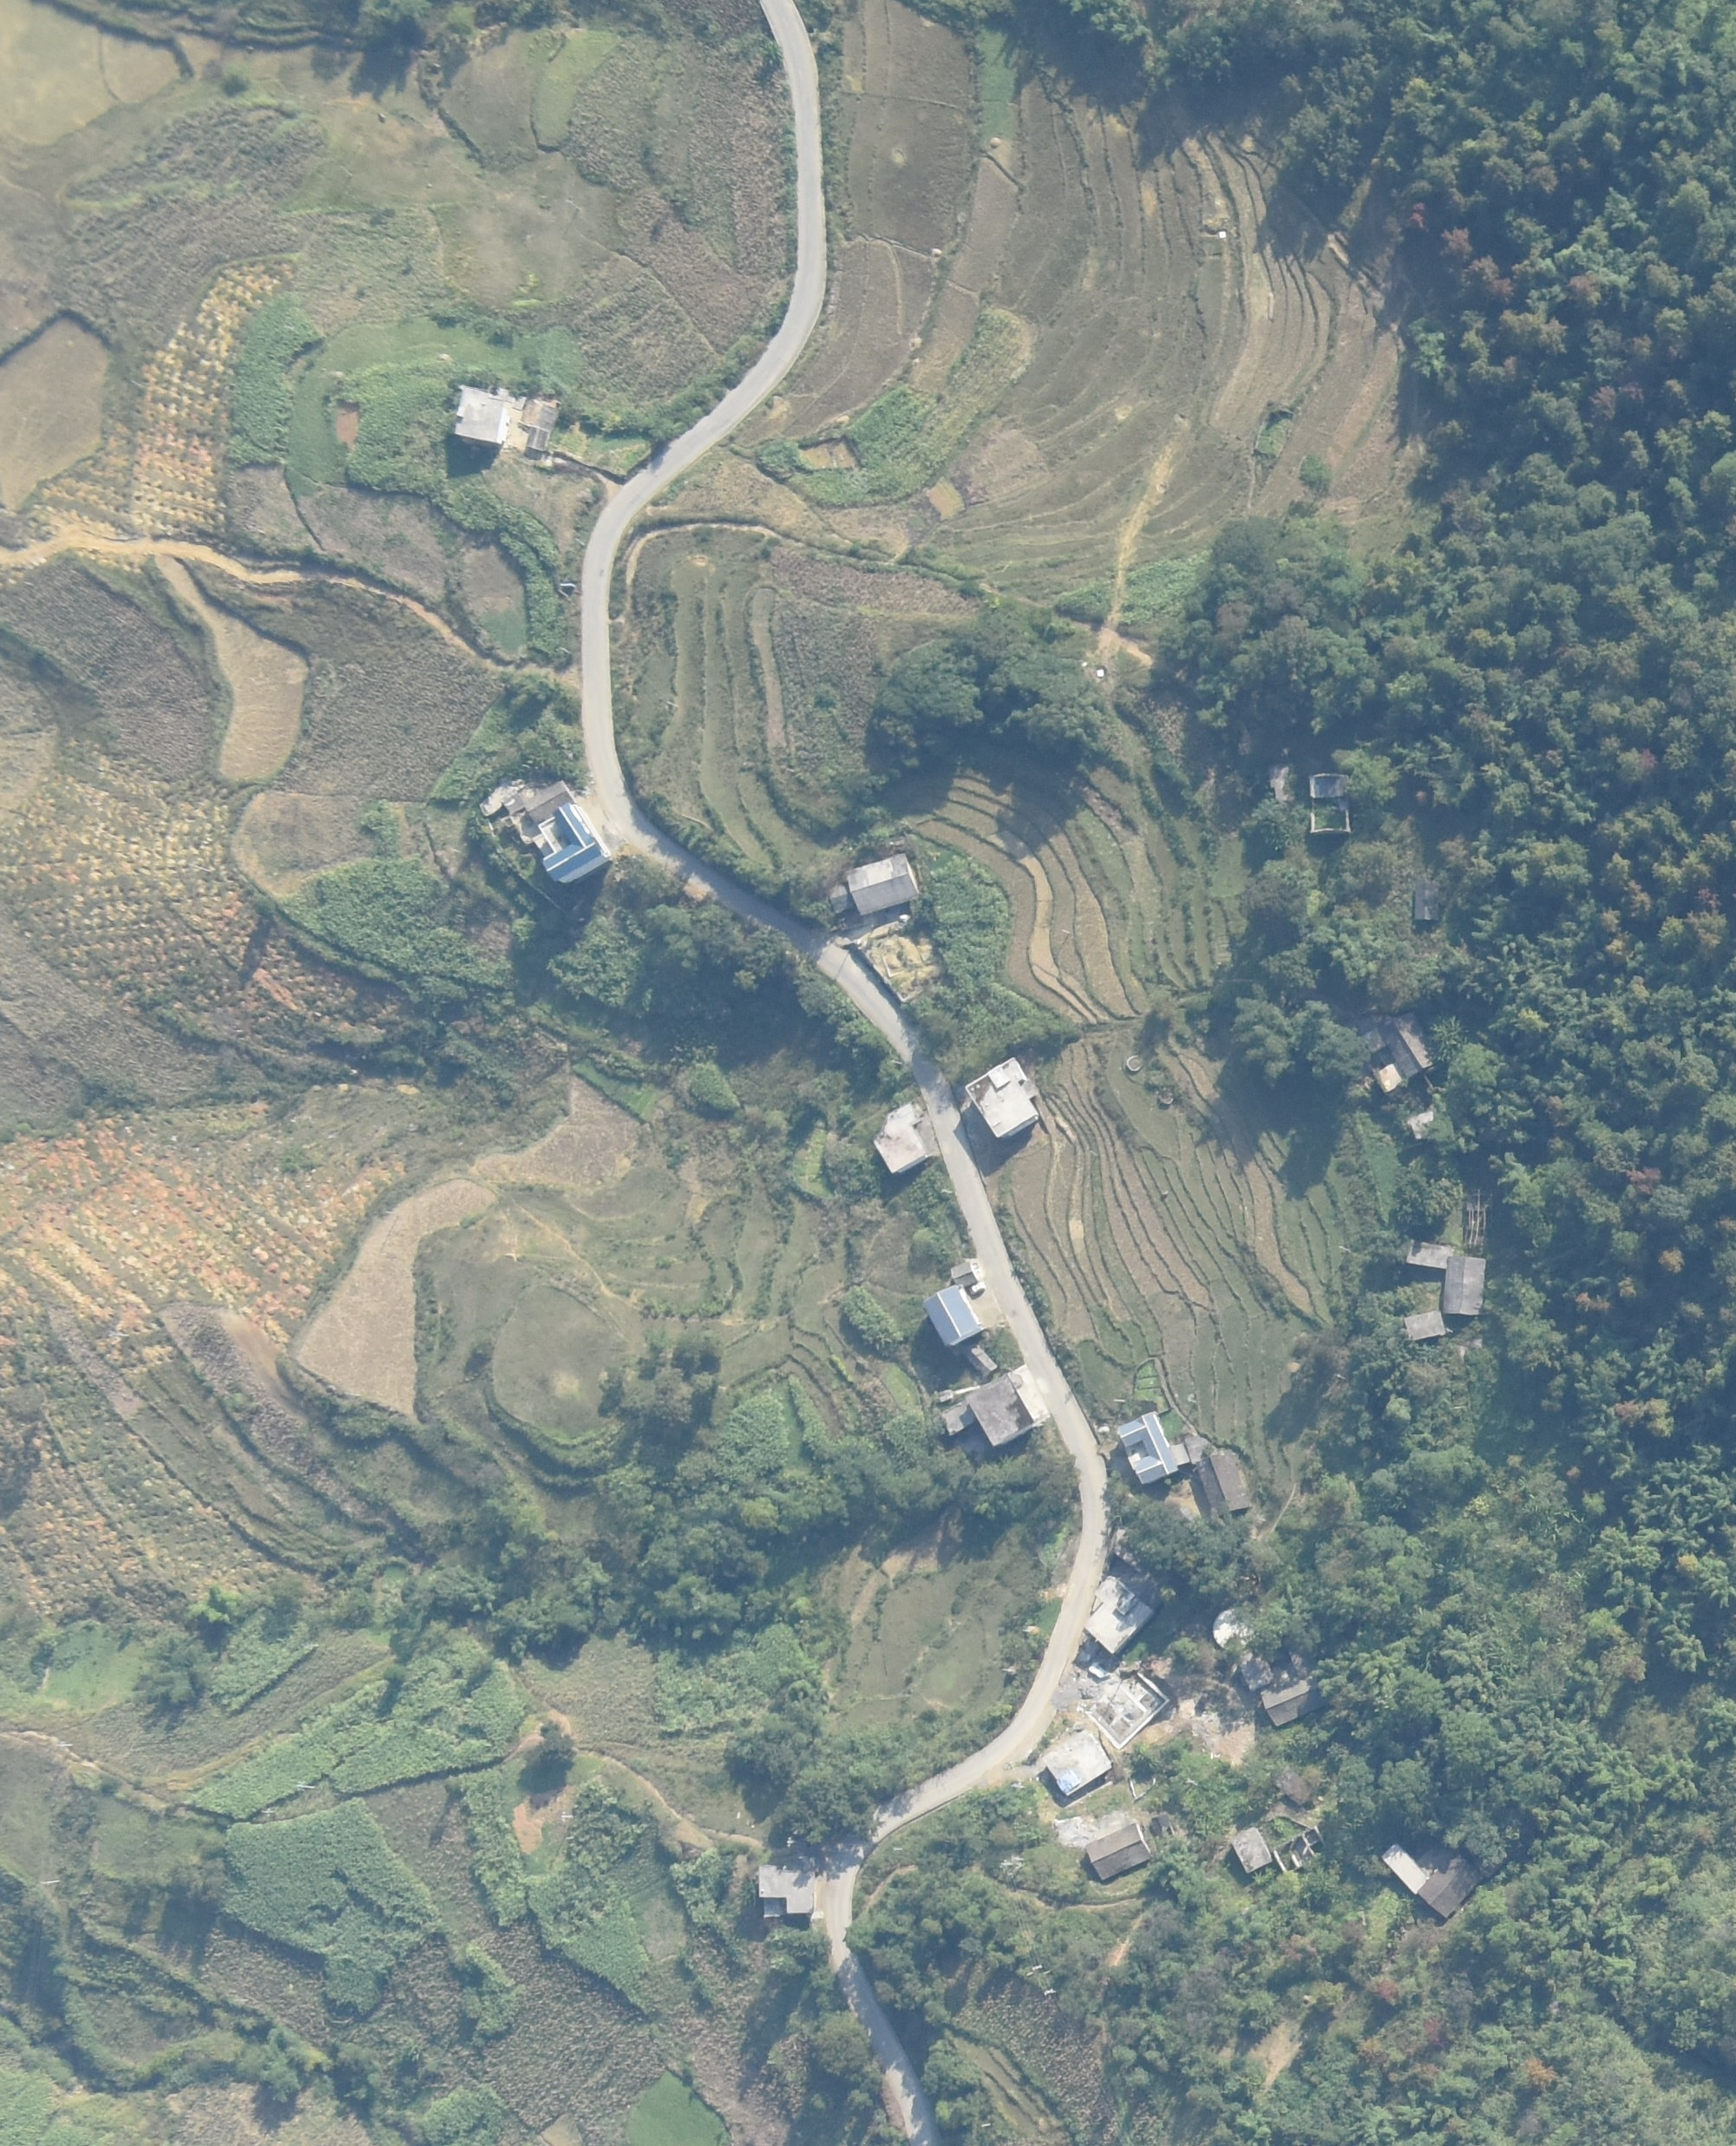building: (477, 774, 611, 883), (942, 1365, 1049, 1446), (825, 852, 919, 921), (962, 1060, 1043, 1138), (1362, 1012, 1437, 1092), (1120, 1409, 1189, 1487), (1088, 1574, 1155, 1652), (1045, 1726, 1114, 1799), (863, 1106, 932, 1177), (1419, 1848, 1483, 1917), (1084, 1825, 1153, 1884), (921, 1285, 983, 1347), (1196, 1455, 1251, 1517), (457, 383, 512, 443), (758, 1864, 815, 1921), (1261, 1680, 1323, 1726), (1444, 1256, 1486, 1317), (1383, 1839, 1428, 1896), (523, 399, 558, 454), (1284, 1627, 1323, 1676), (1231, 1829, 1270, 1877), (1405, 1235, 1454, 1269), (1405, 1310, 1447, 1341), (1236, 1655, 1274, 1689), (965, 1343, 1001, 1377), (1410, 883, 1440, 920), (1407, 1111, 1440, 1143), (1311, 774, 1350, 799), (949, 1260, 980, 1288), (1185, 1437, 1213, 1462)
cable-tower: (1026, 1962, 1061, 1995), (997, 1854, 1027, 1878), (294, 1781, 319, 1793), (39, 1877, 62, 1889), (558, 1809, 576, 1823), (257, 1808, 280, 1818), (57, 1738, 76, 1751), (785, 1836, 801, 1850)
well: (1213, 1607, 1259, 1652)
